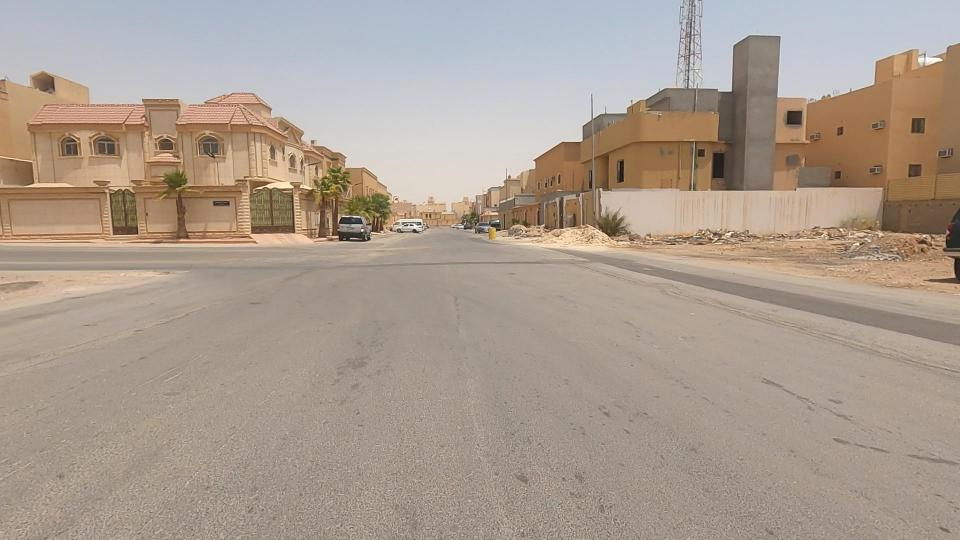GARBAGE: (648, 200, 785, 266), (774, 203, 896, 268), (823, 225, 910, 281)
SAND_ON_ROAD: (485, 208, 652, 270)
